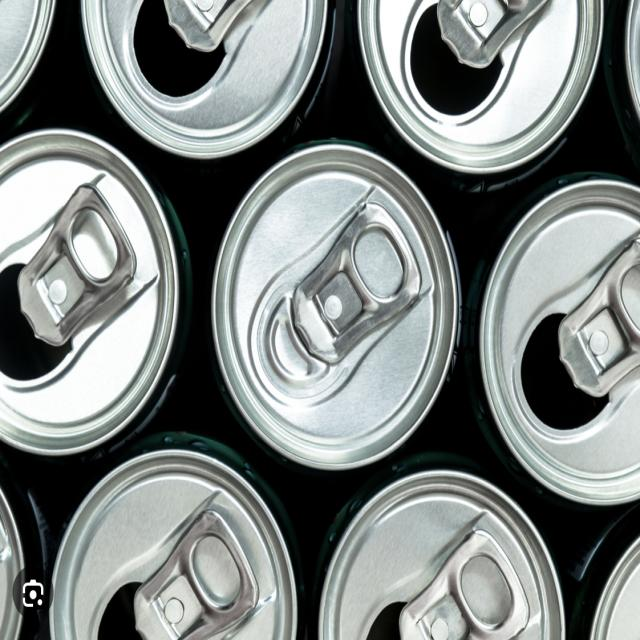recyclable: (211, 137, 466, 480), (2, 112, 198, 473), (25, 411, 315, 640), (483, 158, 640, 532), (309, 458, 564, 640)
